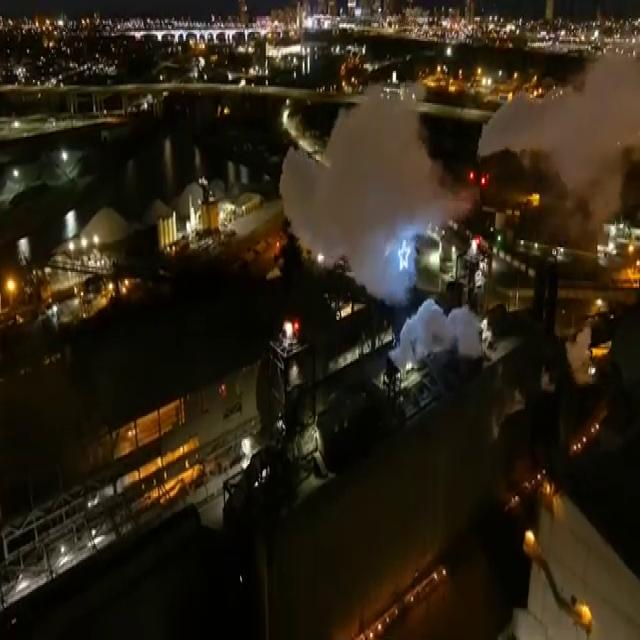smoke: (283, 96, 452, 318), (482, 55, 640, 212), (389, 297, 481, 372)
